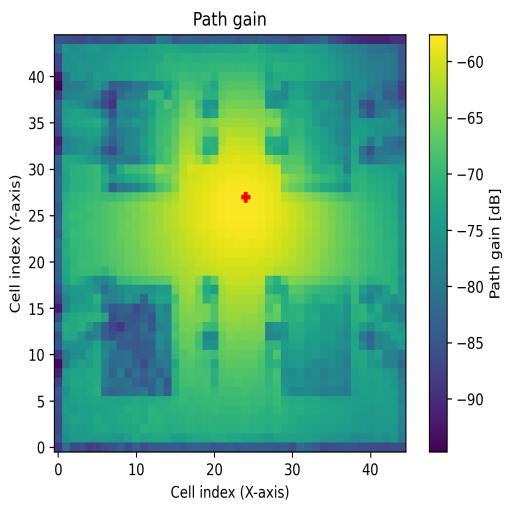Concrete: (282, 81, 352, 192)
Glass: (101, 80, 179, 192)
Metal: (282, 286, 352, 396)
Wood: (102, 284, 173, 398)
